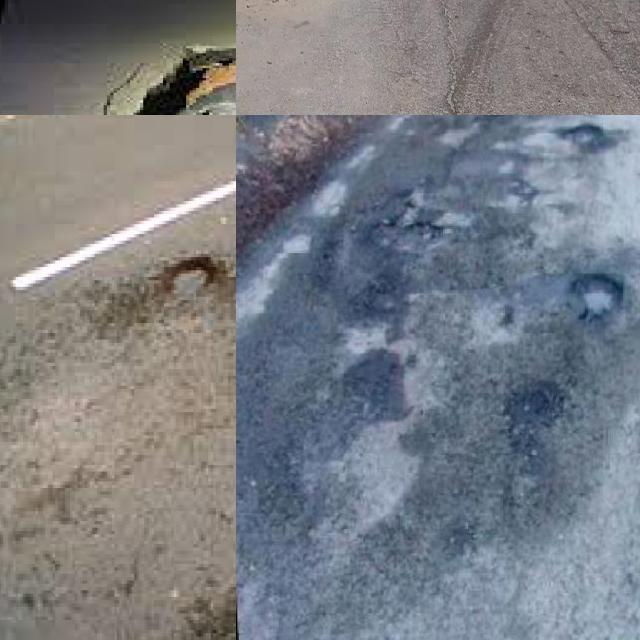Pothole: (343, 348, 406, 420), (370, 207, 445, 252), (481, 172, 541, 228), (504, 381, 564, 426), (161, 257, 216, 303), (570, 274, 620, 320), (556, 123, 610, 149), (431, 212, 473, 233), (440, 130, 471, 149), (501, 304, 513, 325)
